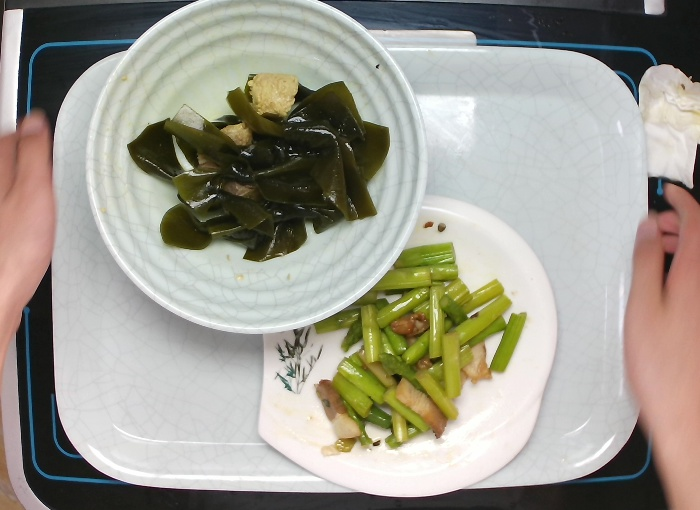JYsf-Da_Tang_Wan: (86, 7, 431, 338)
JYsf-Mian_Pan: (247, 194, 558, 498)
